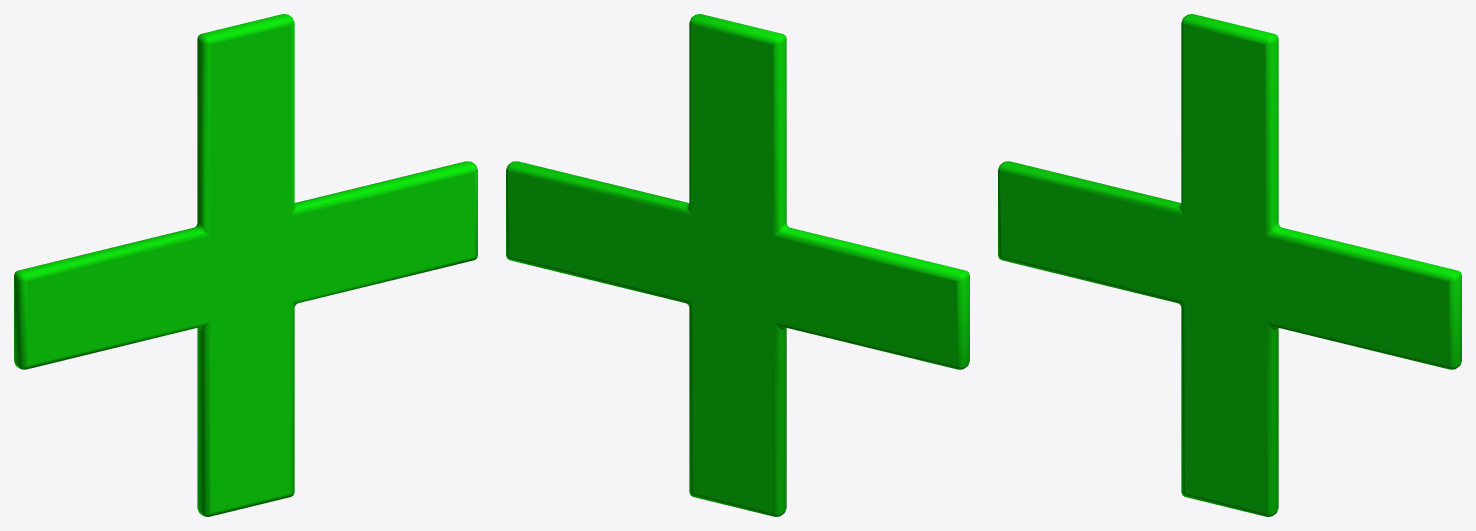
File: volumeButtonPlus.fbx
3 views of the same model, side by side, from view 1: azimuth 30°, elevation 25°; view 2: azimuth 150°, elevation 25°; view 3: azimuth 330°, elevation 25° (orthographic).
Visible parts, largest first — view 1: Cube.001; view 2: Cube.001; view 3: Cube.001.
Boxes of the visible parts, left/top/right/bottom form: Cube.001: left=14, top=14, right=477, bottom=516; Cube.001: left=506, top=14, right=969, bottom=516; Cube.001: left=998, top=14, right=1461, bottom=516.
Size of the model in its own units: 27.6 by 27.6 by 1.03.
